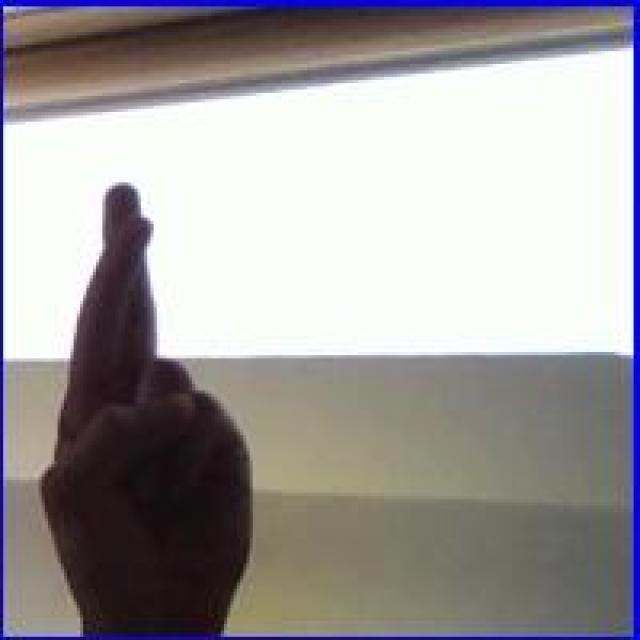R: (32, 177, 259, 638)
